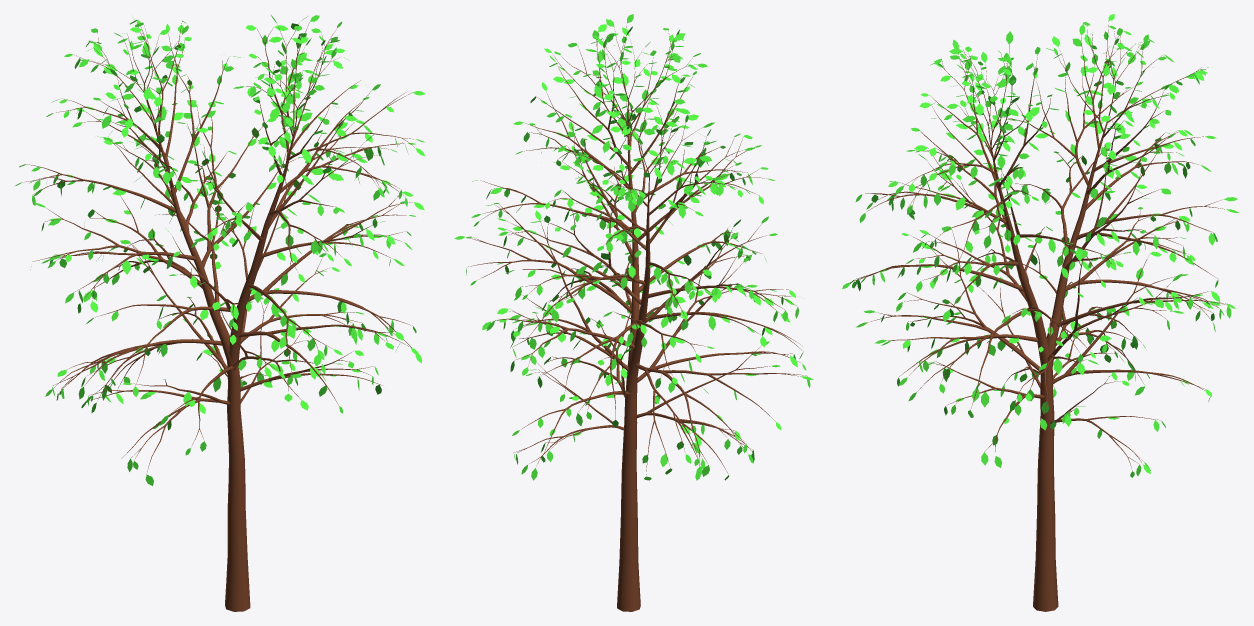
3 renders of one model, left to right at view 1: azimuth 30°, elevation 25°; view 2: azimuth 150°, elevation 25°; view 3: azimuth 270°, elevation 25°, orthographic. The views are drawn at different scales.
Parts seen in each view (by area): view 1: tree.001, leaves; view 2: tree.001, leaves; view 3: tree.001, leaves.
Part boxes in pixels (x1,y1,x2,y2): tree.001: (23,21,414,611); leaves: (14,14,424,485); tree.001: (467,26,806,611); leaves: (454,14,813,480); tree.001: (851,21,1227,611); leaves: (842,14,1239,477).
Size of the model in its own units: 10.32 by 16.22 by 10.04.
